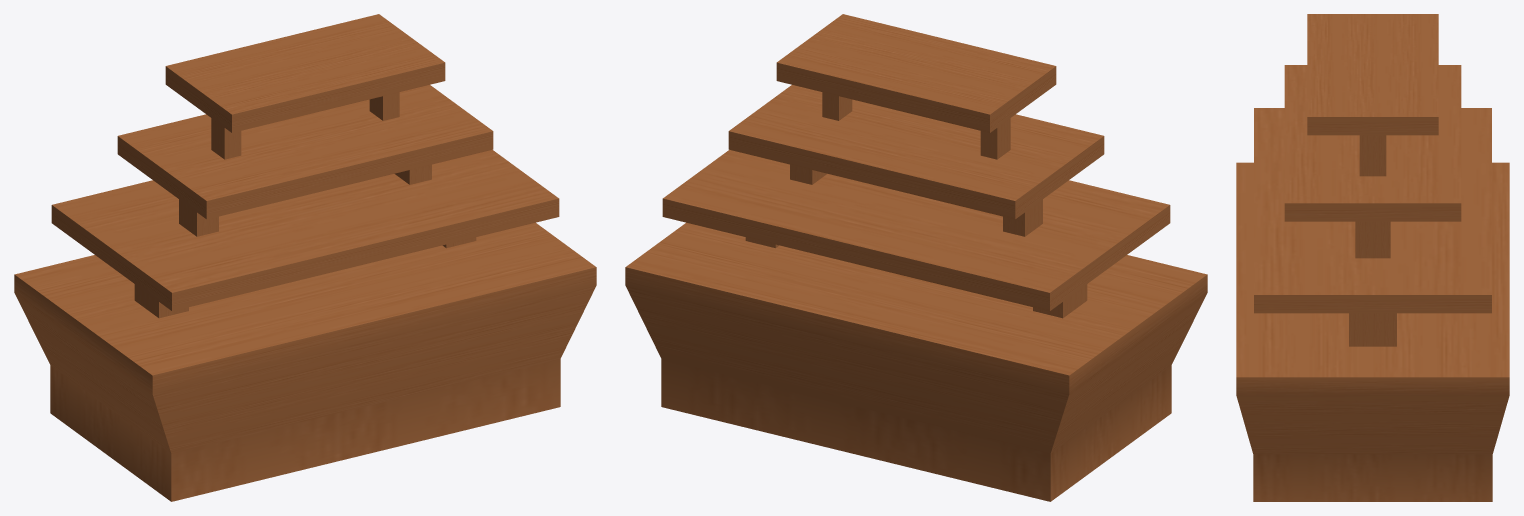
Rendered from Display_A_5.FBX.
3 views of the same model, side by side, from view 1: azimuth 30°, elevation 25°; view 2: azimuth 150°, elevation 25°; view 3: azimuth 270°, elevation 25° (orthographic).
Parts seen in each view (by area): view 1: Display_A; view 2: Display_A; view 3: Display_A.
Boxes of the visible parts, left/top/right/bottom form: Display_A: left=14, top=14, right=596, bottom=501; Display_A: left=625, top=14, right=1207, bottom=501; Display_A: left=1236, top=14, right=1509, bottom=501.
Size of the model in its own units: 371 by 276 by 200.
